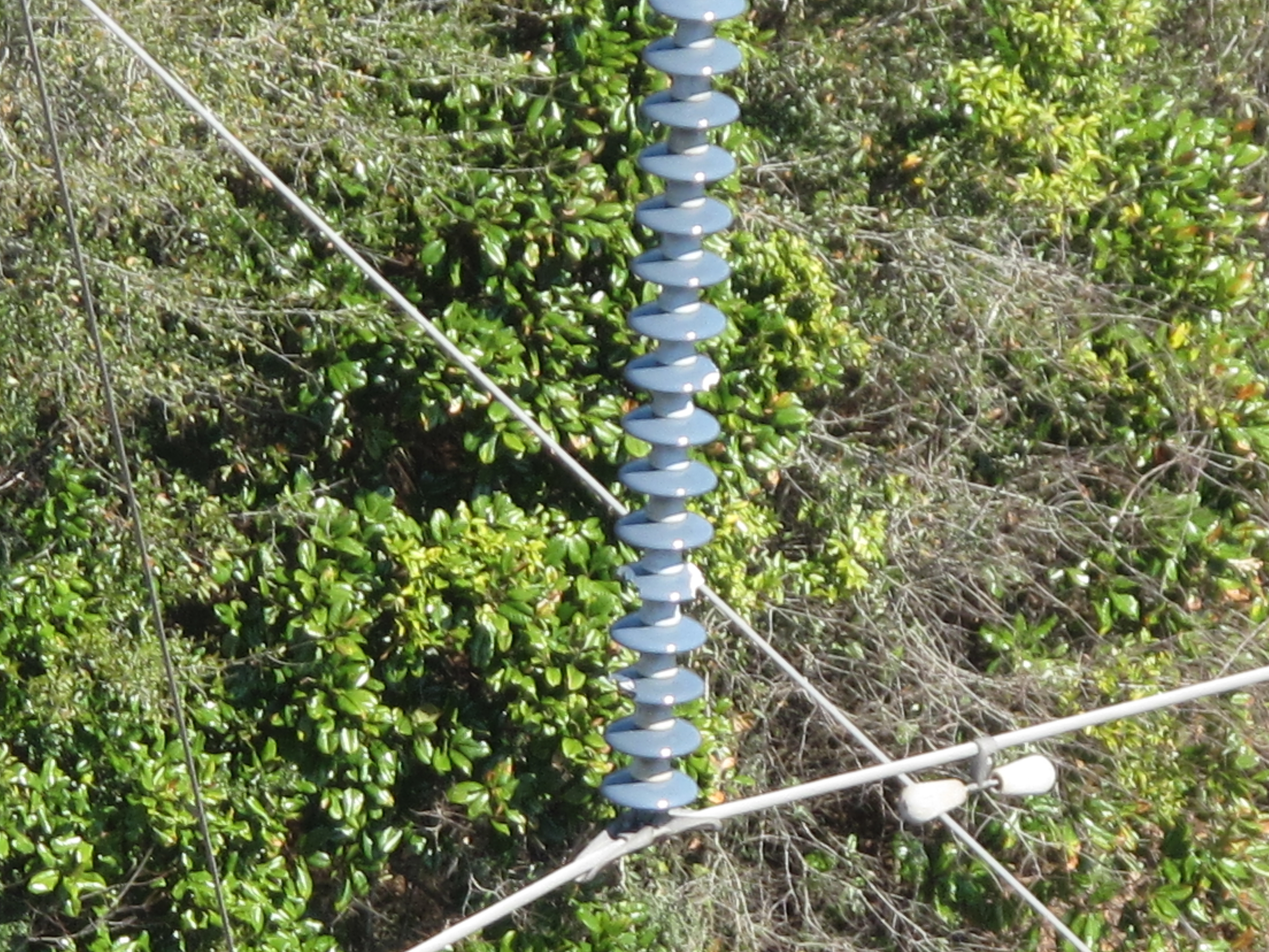damaged: (617, 558, 704, 606), (608, 666, 651, 709), (691, 352, 724, 393)
hammer: (902, 730, 1054, 827)
insulator: (597, 0, 748, 813)
